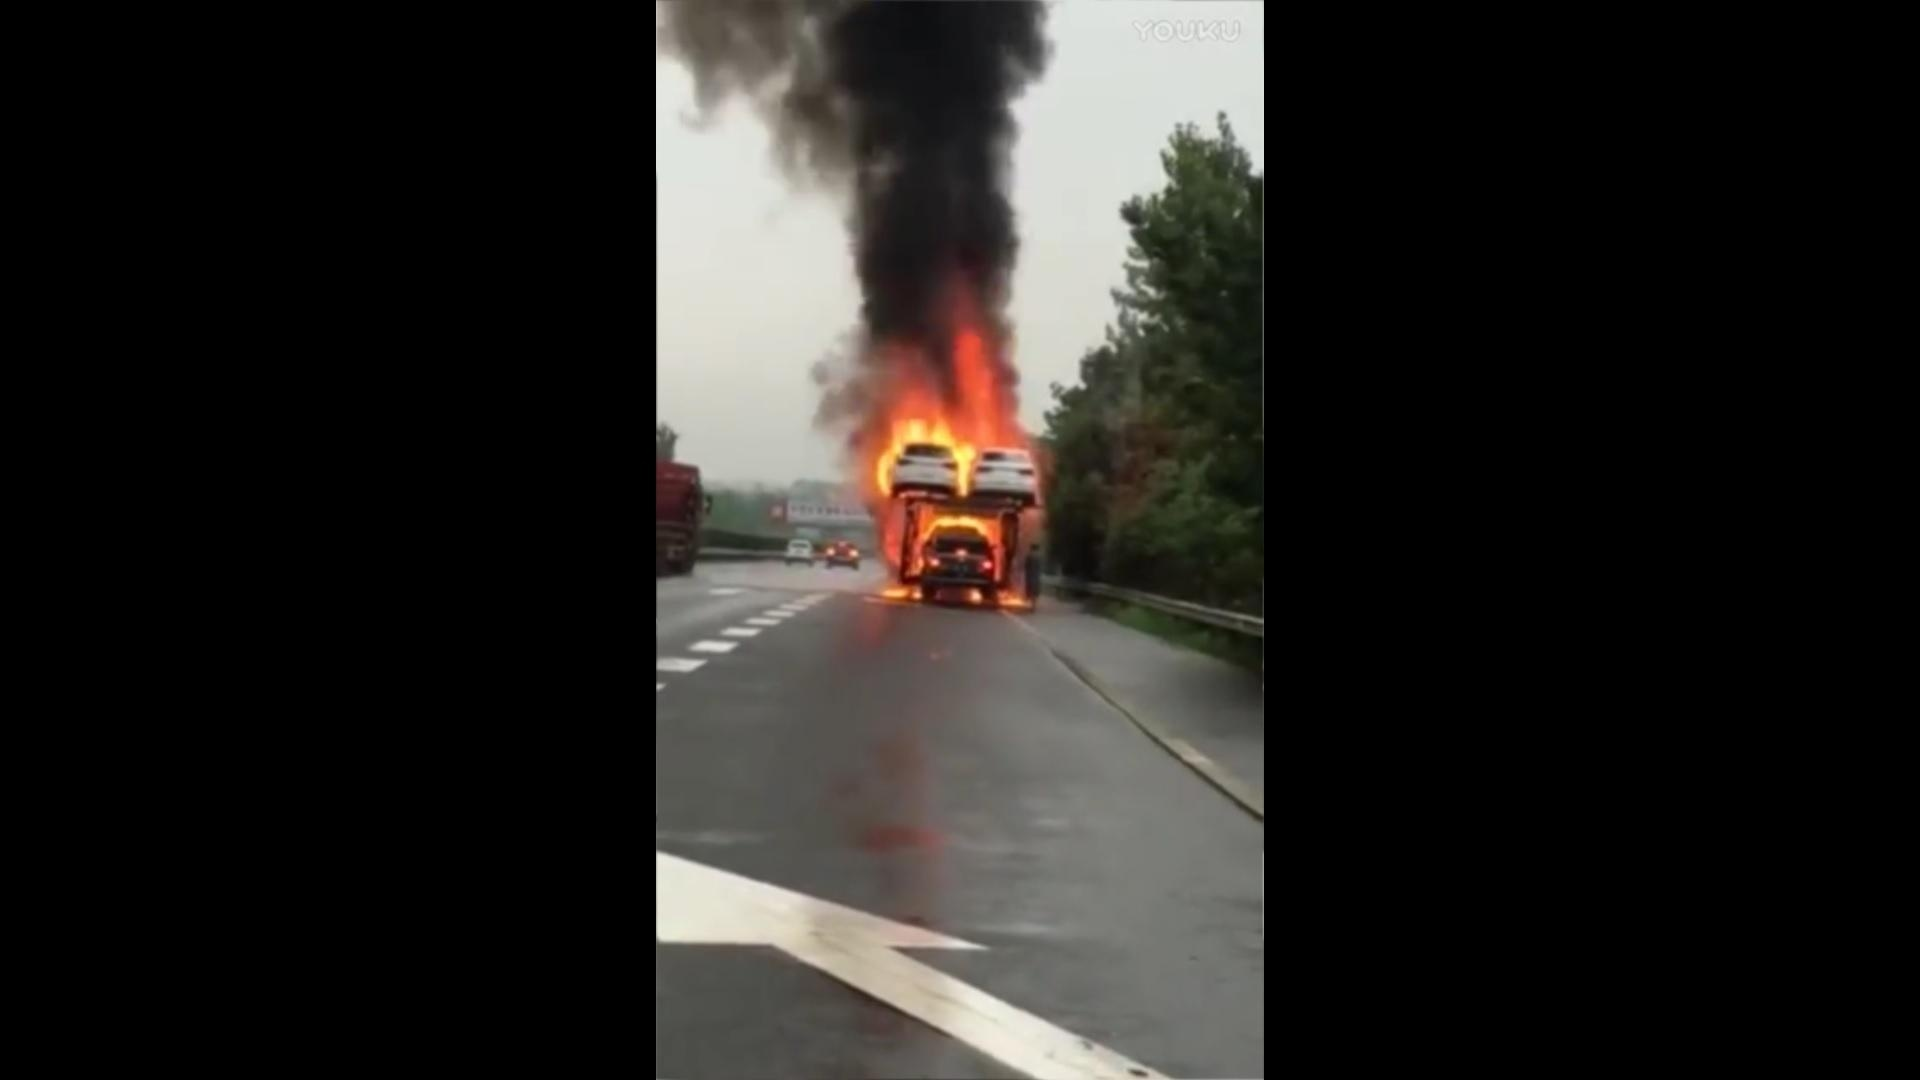fire: (860, 349, 1039, 612)
